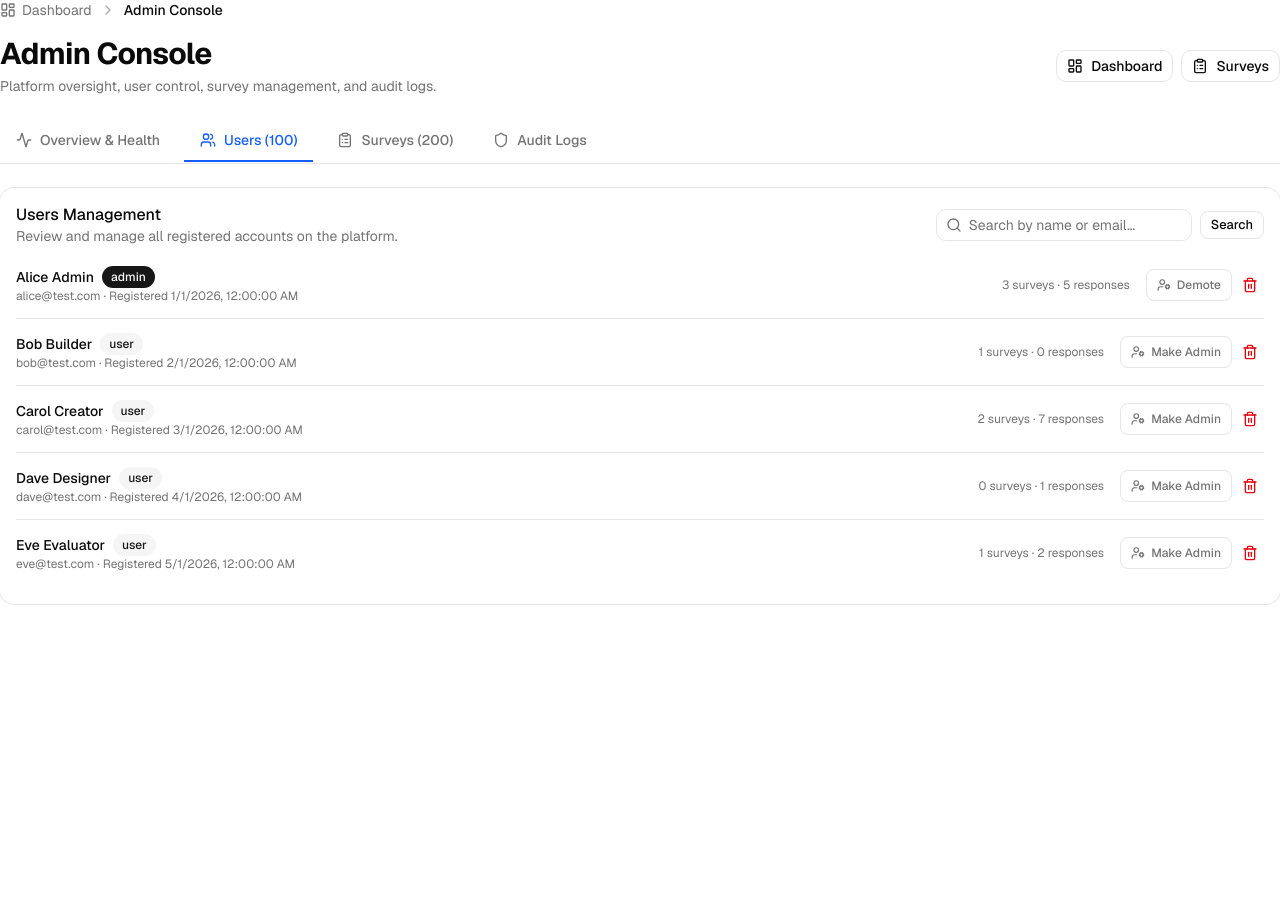
Test: AdminPage › confirms deletion and closes the dialog
Click the button named "Deactivate Bob Builder" at (1250, 352), box [1236,338,1264,366]
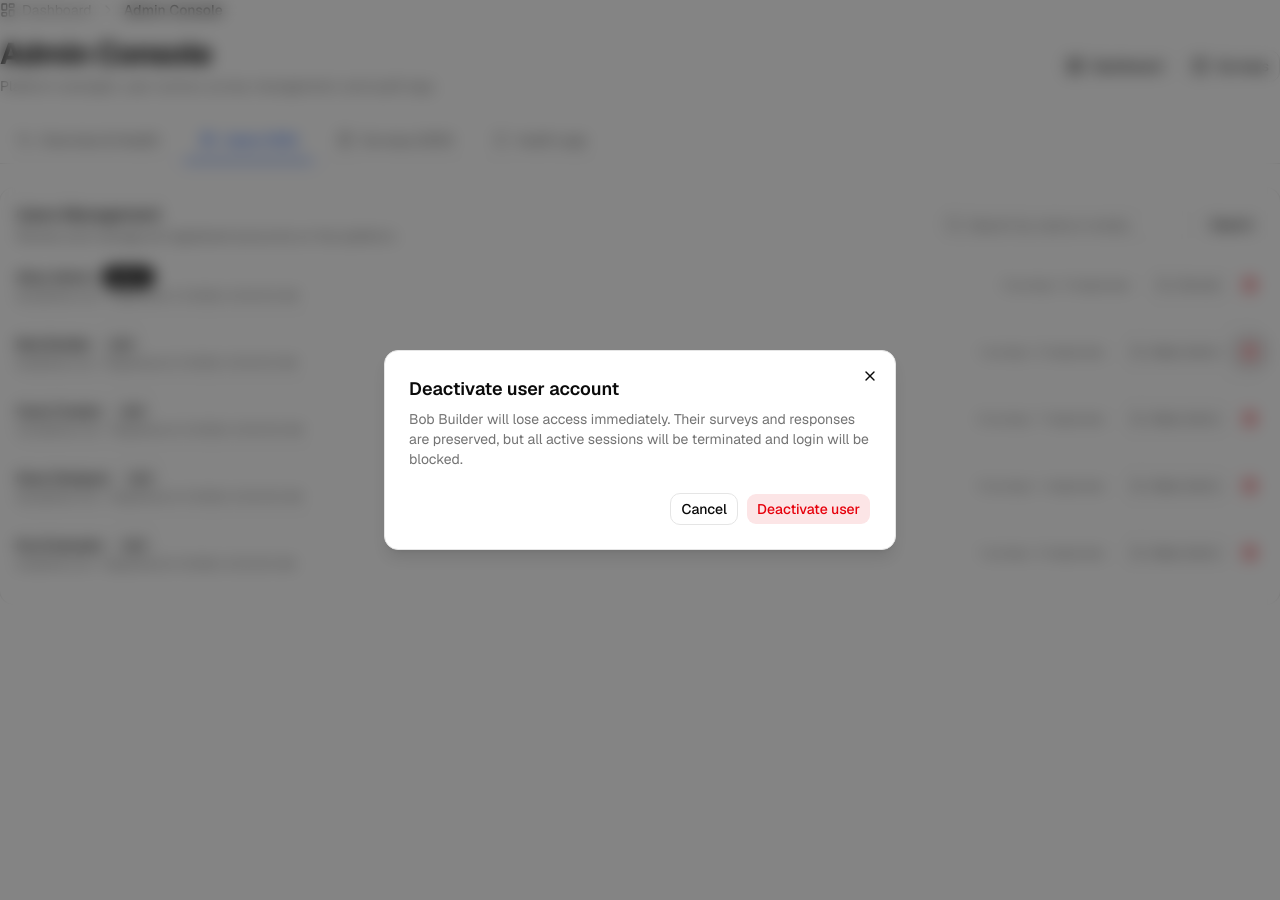
Click the button "Deactivate user" at (808, 509), box [746,493,871,525]
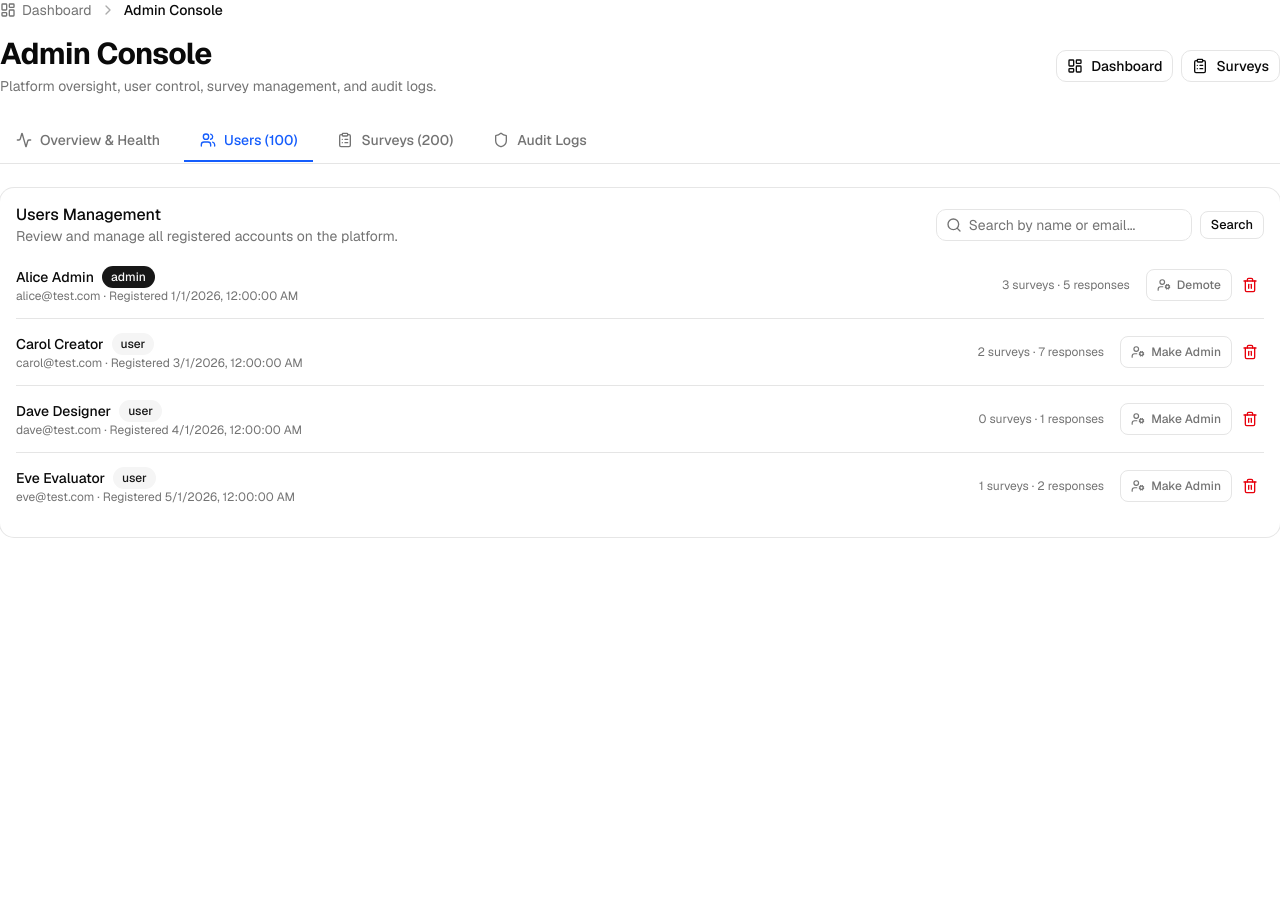
Now the heading "Deactivate user account" is gone
Now the text "Bob Builder" is gone
